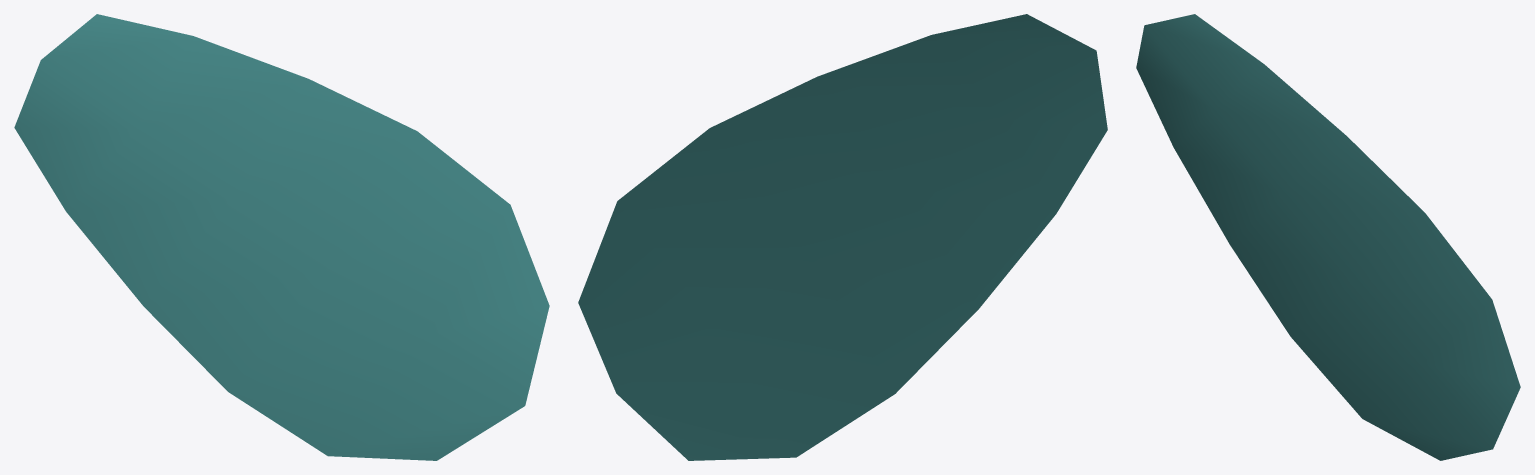
Rendered from budgie_feather_flight_tertiary_027.obj.
3 renders of one model, left to right at view 1: azimuth 30°, elevation 25°; view 2: azimuth 150°, elevation 25°; view 3: azimuth 330°, elevation 25°, orthographic. The views are drawn at different scales.
Visible parts, largest first — view 1: feather_flight_tertiary_027; view 2: feather_flight_tertiary_027; view 3: feather_flight_tertiary_027.
Part boxes in pixels (bbox=[...]): feather_flight_tertiary_027: bbox=[14, 14, 549, 460]; feather_flight_tertiary_027: bbox=[578, 14, 1107, 460]; feather_flight_tertiary_027: bbox=[1136, 14, 1520, 460].
Size of the model in its own units: 0.0135 by 0.0129 by 0.000493.
